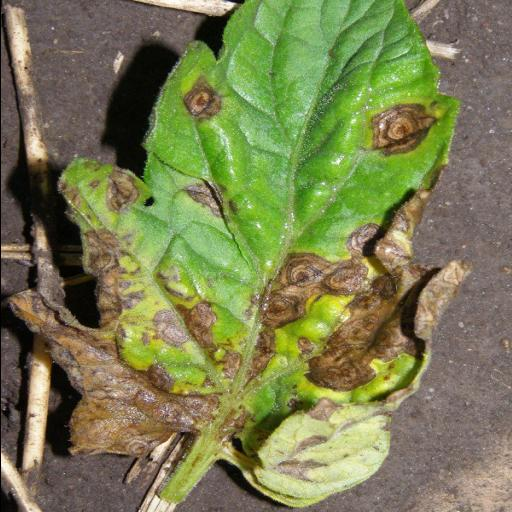Early Blight: (13, 0, 471, 508)
